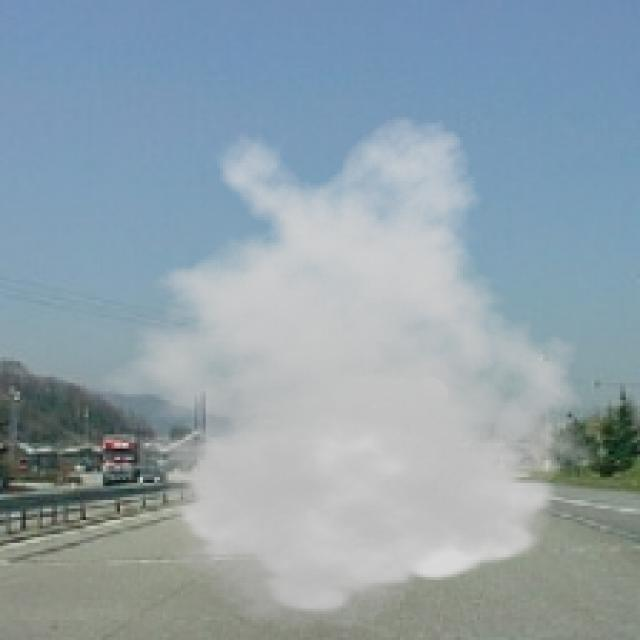Smoke: (74, 114, 606, 632)
